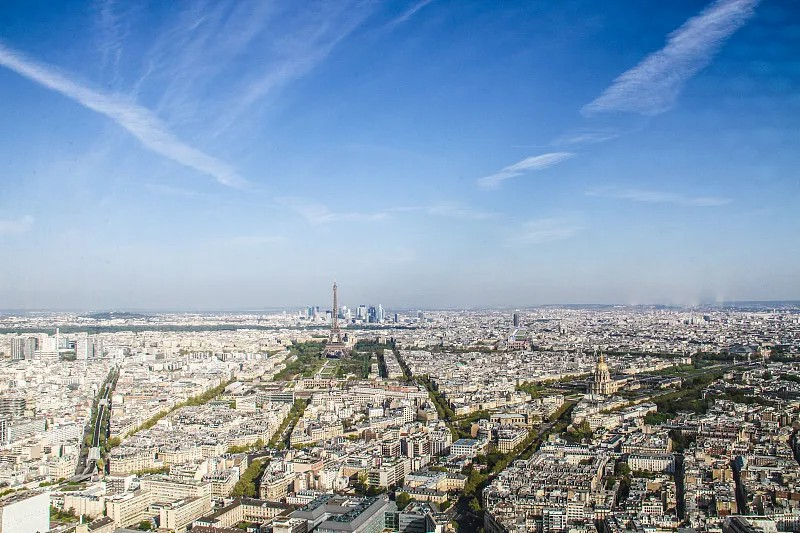Eiffel: (319, 280, 350, 358)
